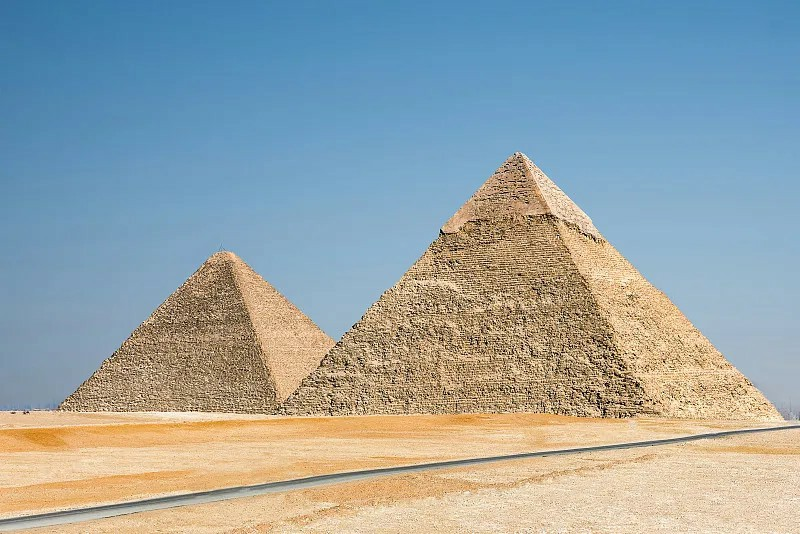Pyramid: (275, 152, 784, 420), (56, 248, 336, 413)
